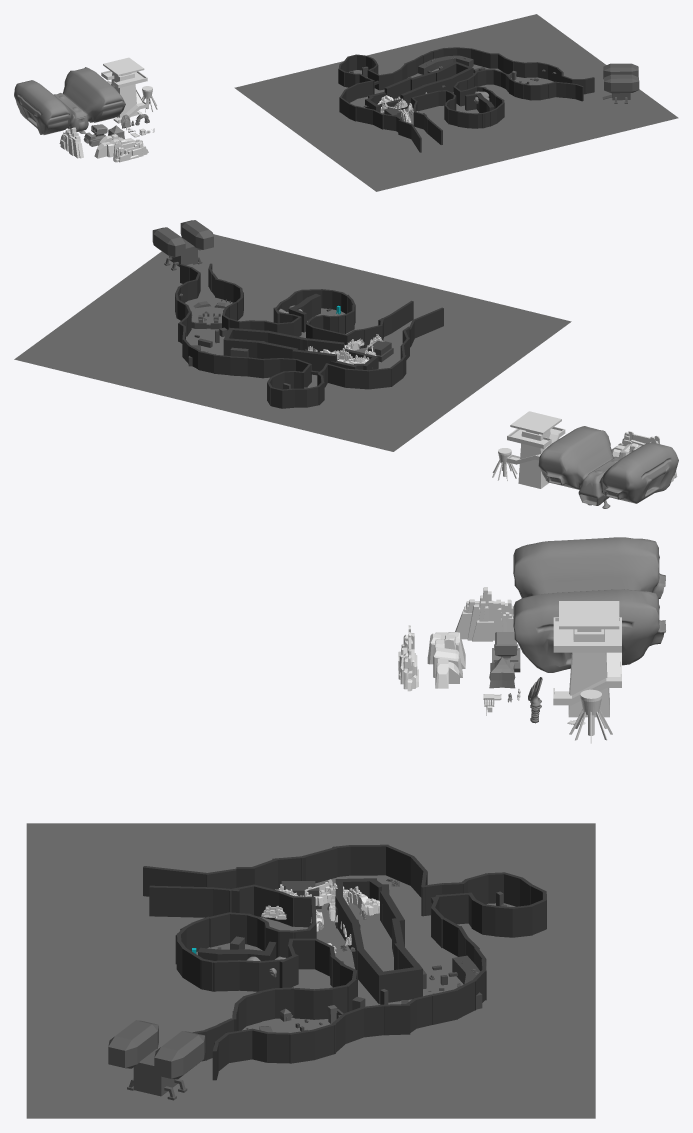
File: Level_0.2.fbx
3 renders of one model, top to bottom at view 1: azimuth 30°, elevation 25°; view 2: azimuth 150°, elevation 25°; view 3: azimuth 270°, elevation 25°, orthographic. The views are drawn at different scales.
Parts seen in each view (by area): view 1: Plane, spaceship, watch_tower, Spaceship, mountain_wall_3, mountain_wall_2, mountain_wall_1, Cube.006, Cube.143, missile_launcher, Cube.139, Cube.140; view 2: Plane, spaceship, watch_tower, Spaceship, Cube.097, Cube.143, Cube.139, Cube.138, Cube.140, Cube.089, Cube.088, Cube; view 3: Plane, spaceship, watch_tower, Spaceship, mountain_wall_2, Cube, mountain_wall_1, Cube.097, Cube.147, Cube.090, Cube.092, tank (+2 smaller).
Boxes of the visible parts, x1,y1,x2,y2 form: Plane: (234, 14, 678, 191); spaceship: (14, 67, 125, 134); watch_tower: (101, 57, 147, 123); Spaceship: (602, 63, 639, 103); mountain_wall_3: (113, 139, 148, 162); mountain_wall_2: (59, 127, 83, 158); mountain_wall_1: (94, 134, 135, 158); Cube.006: (411, 91, 438, 111); Cube.143: (384, 77, 411, 99); missile_launcher: (83, 124, 107, 146); Cube.139: (410, 70, 441, 90); Cube.140: (421, 77, 452, 93); Plane: (14, 234, 571, 451); spaceship: (538, 426, 678, 508); watch_tower: (506, 411, 565, 488); Spaceship: (152, 220, 213, 270); Cube.097: (413, 307, 443, 338); Cube.143: (292, 349, 336, 371); Cube.139: (257, 342, 298, 358); Cube.138: (223, 338, 265, 358); Cube.140: (268, 331, 308, 350); Cube.089: (368, 367, 392, 389); Cube.088: (345, 368, 368, 389); Cube: (389, 300, 413, 333); Plane: (26, 823, 595, 1118); spaceship: (513, 537, 665, 672); watch_tower: (553, 601, 621, 717); Spaceship: (108, 1020, 205, 1100); mountain_wall_2: (455, 587, 514, 641); Cube: (149, 885, 213, 917); mountain_wall_1: (427, 632, 465, 688); Cube.097: (143, 866, 208, 896); Cube.147: (380, 966, 421, 1002); Cube.090: (350, 844, 388, 875); Cube.092: (299, 847, 337, 883); tank: (569, 689, 612, 743).
Size of the model in its own units: 158326 by 14893 by 85705.
